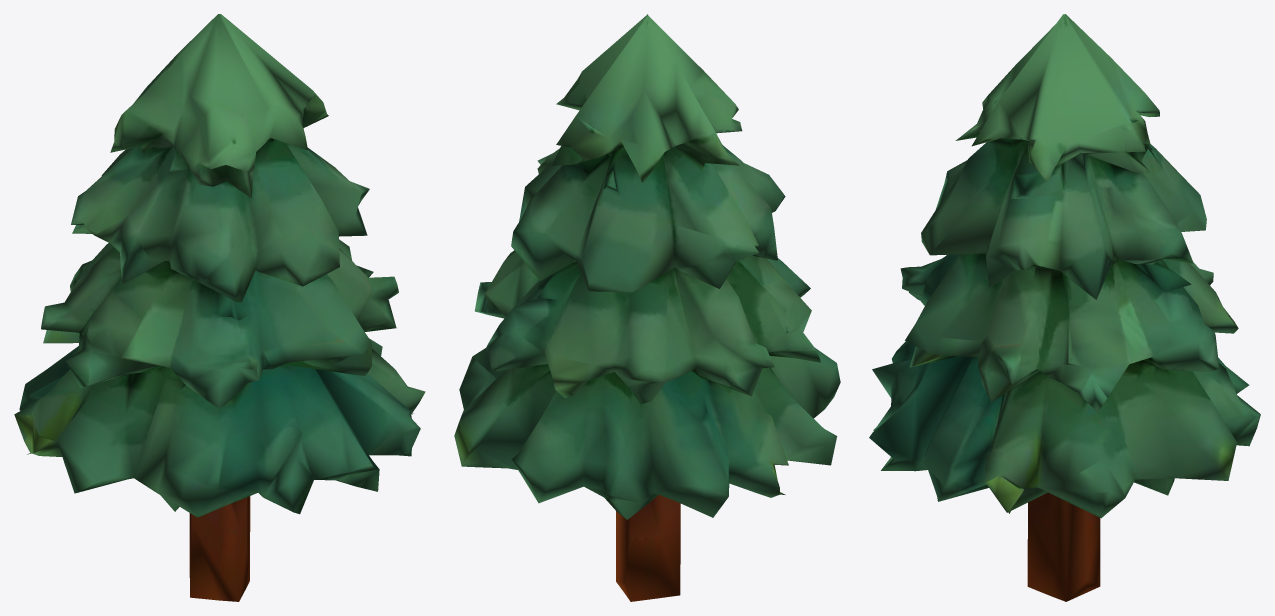
Rendered from pine.glb.
3 views of the same model, side by side, from view 1: azimuth 30°, elevation 25°; view 2: azimuth 150°, elevation 25°; view 3: azimuth 270°, elevation 25° (orthographic).
Parts seen in each view (by area): view 1: node_e121c5fc-92f0-4113-9321-b42dcbc245d7; view 2: node_e121c5fc-92f0-4113-9321-b42dcbc245d7; view 3: node_e121c5fc-92f0-4113-9321-b42dcbc245d7.
Part boxes in pixels (x1,y1,x2,y2): node_e121c5fc-92f0-4113-9321-b42dcbc245d7: (14,14,425,601); node_e121c5fc-92f0-4113-9321-b42dcbc245d7: (454,14,840,601); node_e121c5fc-92f0-4113-9321-b42dcbc245d7: (869,14,1260,601).
Bounding box in the file's own units: 0.616 × 0.9998 × 0.6198.
Materials: 1 (1 with a texture image).
